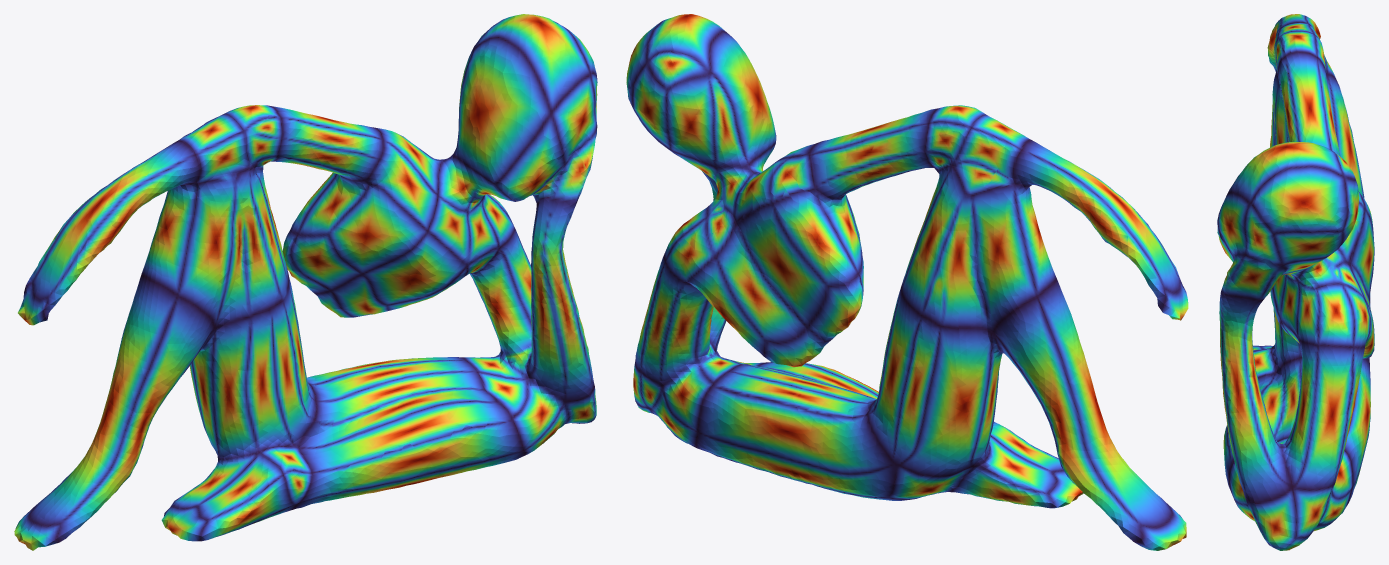
File: gen3.glb
3 renders of one model, left to right at view 1: azimuth 30°, elevation 25°; view 2: azimuth 150°, elevation 25°; view 3: azimuth 270°, elevation 25°, orthographic. The views are drawn at different scales.
Parts seen in each view (by area): view 1: Node; view 2: Node; view 3: Node.
Boxes of the visible parts, x1,y1,x2,y2 form: Node: [14, 14, 597, 550]; Node: [626, 14, 1188, 550]; Node: [1217, 14, 1374, 550].
Bounding box in the file's own units: 0.9985 × 0.7006 × 0.2574.
Materials: 1 (1 with a texture image).
